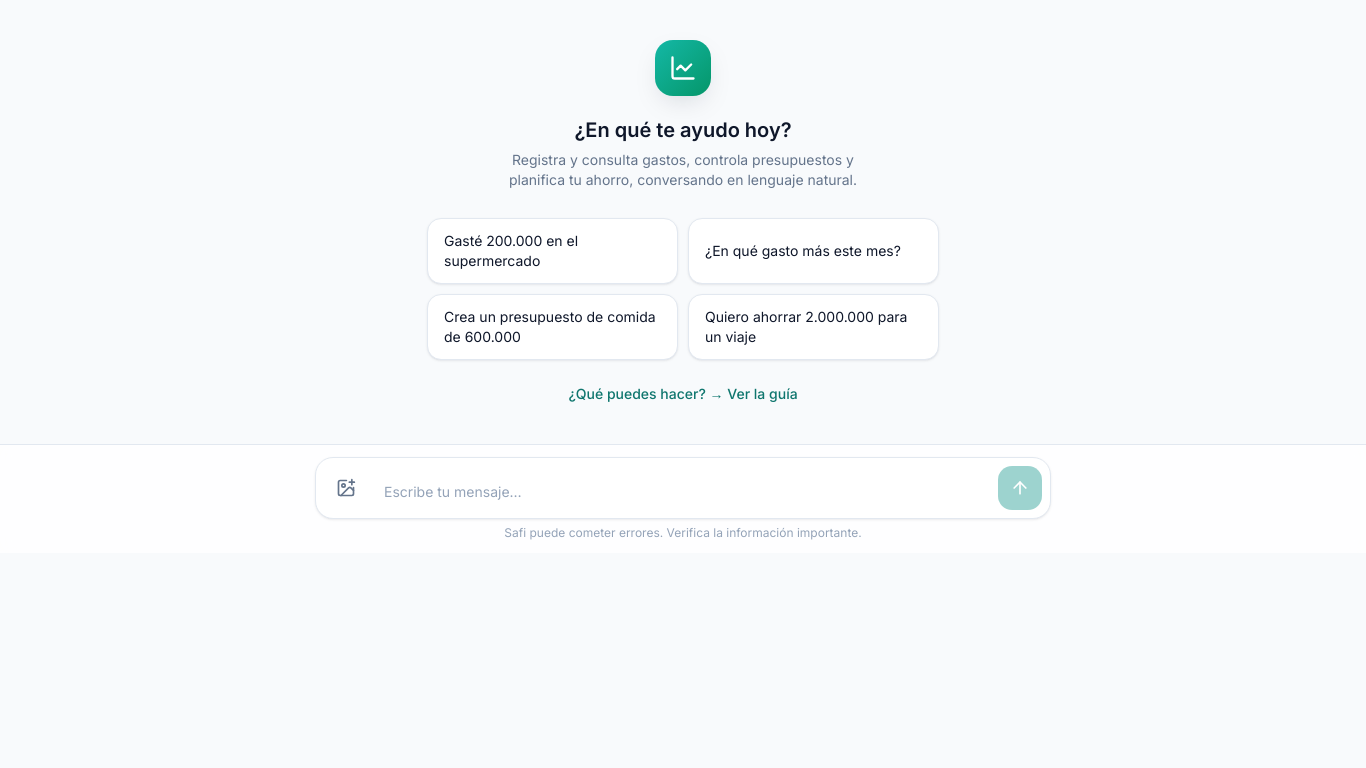
Test: ChatView › shows the backend rate-limit message as a normal reply on 429
Type "hola" into the text box.
click(683, 492); type("hola")  # box top-left (376, 474), bottom-right (990, 510)
Then press Enter
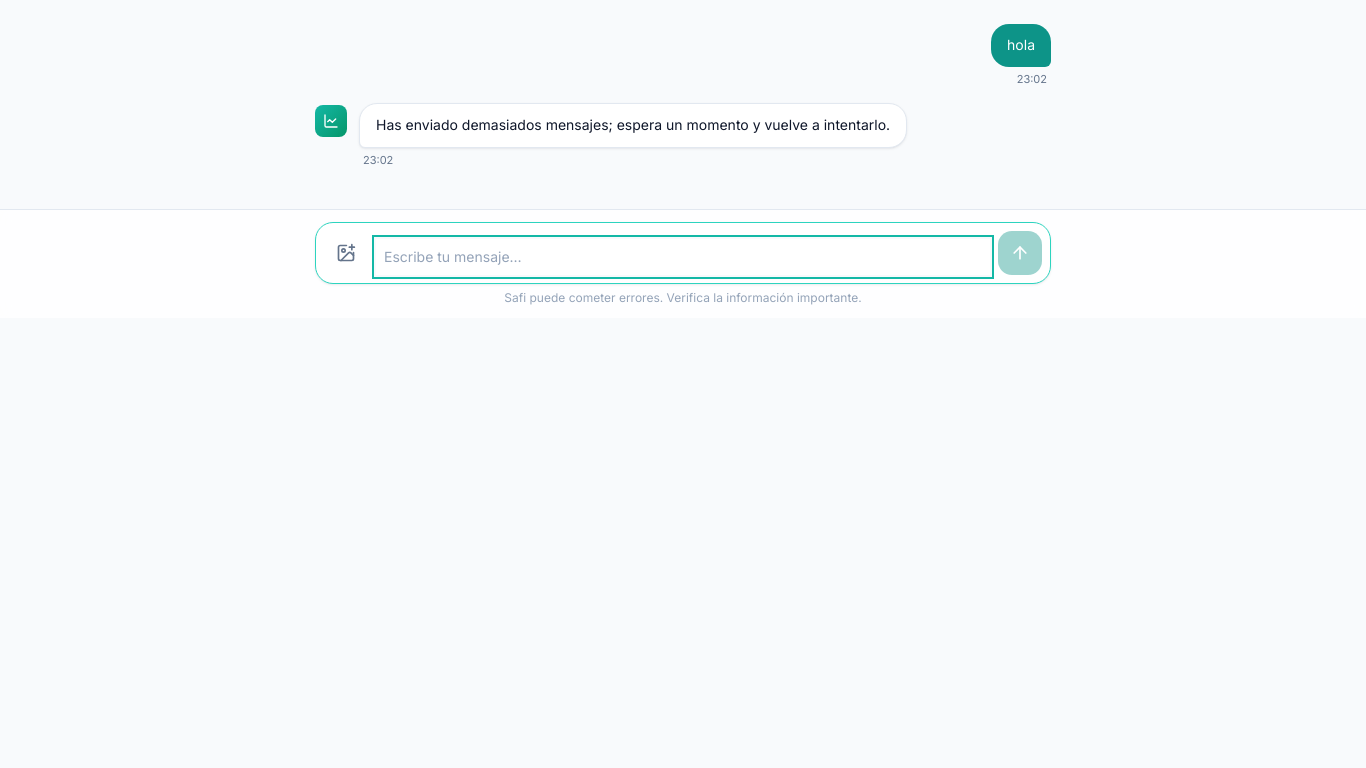
Expected: the text "Has enviado demasiados mensajes; espera un momento y vuelve a intentarlo." is shown, top-left (376, 114), bottom-right (890, 137)
